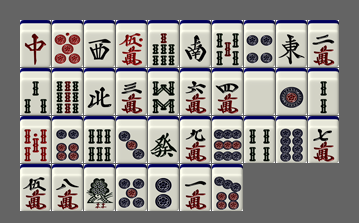0m: (116, 20, 147, 67)
0p: (52, 20, 83, 67)
0s: (20, 116, 51, 163)
1m: (180, 164, 211, 211)
1p: (276, 68, 307, 115)
1s: (84, 164, 115, 211)
1z: (276, 20, 307, 67)
2m: (308, 20, 339, 67)
2p: (148, 164, 179, 211)
2s: (308, 68, 339, 115)
2z: (180, 20, 211, 67)
3m: (116, 68, 147, 115)
3p: (116, 116, 147, 163)
3s: (20, 68, 51, 115)
3z: (84, 20, 115, 67)
4m: (212, 68, 243, 115)
4p: (244, 20, 275, 67)
4s: (244, 116, 275, 163)
4z: (84, 68, 115, 115)
5m: (20, 164, 51, 211)
5p: (116, 164, 147, 211)
5s: (212, 20, 243, 67)
5z: (244, 68, 275, 115)
6m: (180, 68, 211, 115)
6p: (52, 116, 83, 163)
6s: (84, 116, 115, 163)
6z: (148, 116, 179, 163)
7m: (308, 116, 339, 163)
7p: (212, 164, 243, 211)
7s: (148, 20, 179, 67)
7z: (20, 20, 51, 67)
8m: (52, 164, 83, 211)
8p: (276, 116, 307, 163)
8s: (148, 68, 179, 115)
9m: (180, 116, 211, 163)
9p: (212, 116, 243, 163)
9s: (52, 68, 83, 115)
